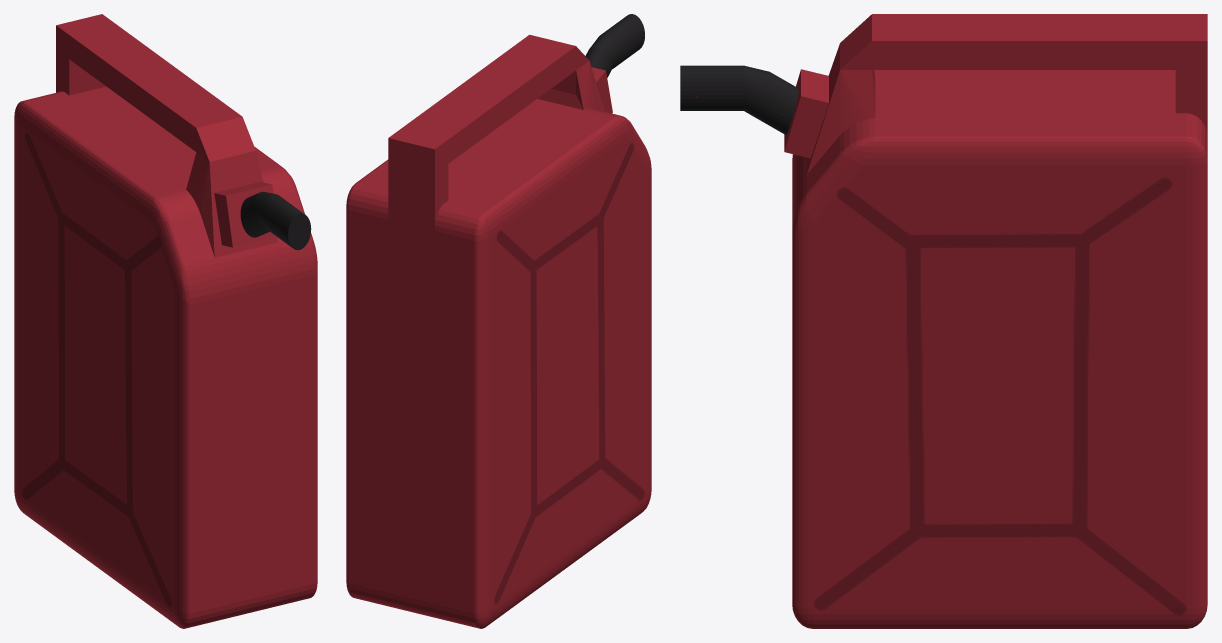
Rendered from Storage-gascan.glb.
3 renders of one model, left to right at view 1: azimuth 30°, elevation 25°; view 2: azimuth 150°, elevation 25°; view 3: azimuth 270°, elevation 25°, orthographic. The views are drawn at different scales.
Parts seen in each view (by area): view 1: Cylinder; view 2: Cylinder; view 3: Cylinder.
Part boxes in pixels (<box>): Cylinder: <box>14,14,317,628</box>; Cylinder: <box>346,14,651,628</box>; Cylinder: <box>680,14,1207,628</box>.
Size of the model in its own units: 1.2 by 3.9 by 3.3.
Materials: 1 (1 with a texture image).
